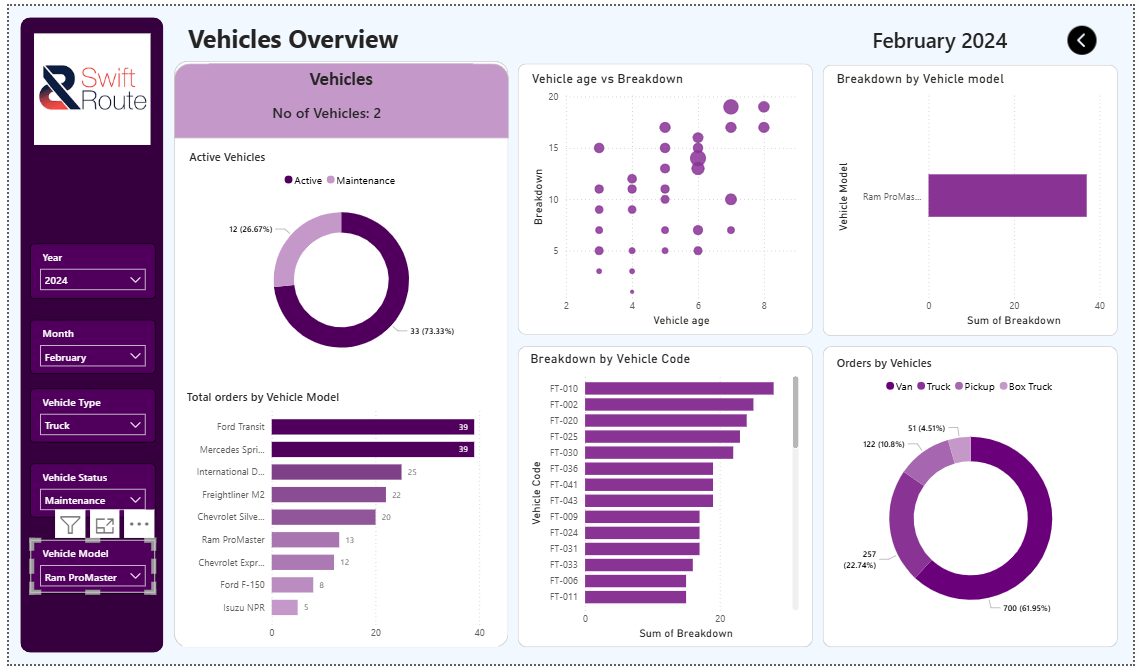

The dashboard page shown, as its layout file describes it:
{"tool":"powerbi","page":{"name":"Vehicles Overview","canvas":[1450,850],"ordinal":3},"visuals":[{"type":"shape","box":[14.4,14.4,184.8,820],"z":0},{"type":"textbox","box":[225.8,14.5,658.1,56.5],"z":1000},{"type":"slicer","fields":{"Values":["Date table.Month"]},"box":[27.4,404.8,161.3,69.4],"z":2000},{"type":"slicer","fields":{"Values":["Date table.Year"]},"box":[27.4,306.5,161.3,71],"z":3000},{"type":"image","box":[32.3,14.5,150,185.5],"z":4000},{"type":"cardVisual","fields":{"Data":["Orders.Year Month Title"]},"box":[1096.8,14.5,237.1,56.5],"z":5000},{"type":"shape","box":[212.9,71,431.5,756.5],"z":6000},{"type":"shape","box":[656.5,74.2,380.6,350],"z":7000},{"type":"group","id":"g1","title":"Group 1","box":[213.1,73.8,432.1,753.2],"z":8000},{"type":"shape","box":[1050,75.8,380.6,350],"z":9000},{"type":"scatterChart","title":"Vehicle age vs Breakdown","fields":{"X":["Vehicles.Vehicle age"],"Y":["Vehicles.Breakdown"],"Size":["Sum(Vehicles.Breakdown)1"]},"box":[669.4,83.9,356.5,335.5],"z":10000},{"type":"shape","box":[656.5,438.7,380.6,388.7],"z":11000},{"type":"barChart","title":" Breakdown by Vehicle Code","fields":{"Category":["Vehicles.Vehicle Code"],"Y":["Sum(Vehicles.Breakdown)"]},"box":[667.7,445.2,356.5,377.4],"z":12000},{"type":"shape","box":[213.1,74,432.1,96.7],"z":13000,"group":"g1"},{"type":"barChart","title":" Breakdown by Vehicle model","fields":{"Y":["Sum(Vehicles.Breakdown)"],"Category":["Vehicles.Vehicle Model"]},"box":[1062.9,83.9,356.5,335.5],"z":13000},{"type":"shape","box":[1050,438.7,380.6,388.7],"z":14000},{"type":"donutChart","title":"Orders by Vehicles","fields":{"Y":["Orders.Total orders"],"Category":["Orders.Vehicle Type"]},"box":[1062.9,450,356.5,372.6],"z":15000},{"type":"image","box":[1364.5,24.2,40.3,40.3],"z":16000},{"type":"slicer","fields":{"Values":["Orders.Vehicle Type"]},"box":[27.4,493.5,161.3,69.4],"z":17000},{"type":"slicer","fields":{"Values":["Vehicles.Vehicle Status"]},"box":[27.4,590.3,161.3,69.4],"z":18000},{"type":"textbox","box":[257.6,73.8,340.9,59.9],"z":19000,"group":"g1"},{"type":"slicer","fields":{"Values":["Vehicles.Vehicle Model"]},"box":[27.4,688.7,161.3,69.4],"z":19000},{"type":"cardVisual","fields":{"Data":["Vehicles.No of Vehicles"]},"box":[323.6,101.8,253,69.9],"z":20000,"group":"g1"},{"type":"donutChart","title":"Active Vehicles","fields":{"Category":["Vehicles.Vehicle Status"],"Y":["CountNonNull(Vehicles.Vehicle ID)"]},"box":[228.3,183.7,403.3,289.7],"z":21000,"group":"g1"},{"type":"barChart","fields":{"Category":["Vehicles.Vehicle Model"],"Y":["Orders.Total orders"]},"box":[224.6,493.4,406.9,333.7],"z":22000,"group":"g1"}]}

Visuals, with their boxes in screenshot pixels (x1, y1, x2, y2), scaled from the page's 1450x850 canvas onto the 1139x670 screenshot:
shape: 11 11 156 658
textbox: 177 11 694 56
slicer - Date table.Month: 22 319 148 374
slicer - Date table.Year: 22 242 148 298
image: 25 11 143 158
cardVisual - Orders.Year Month Title: 862 11 1048 56
shape: 167 56 506 652
shape: 516 58 815 334
"Group 1" group: 167 58 507 652
shape: 825 60 1124 336
"Vehicle age vs Breakdown" scatterChart: 526 66 806 331
shape: 516 346 815 652
" Breakdown by Vehicle Code" barChart: 524 351 805 648
shape: 167 58 507 135
" Breakdown by Vehicle model" barChart: 835 66 1115 331
shape: 825 346 1124 652
"Orders by Vehicles" donutChart: 835 355 1115 648
image: 1072 19 1103 51
slicer - Orders.Vehicle Type: 22 389 148 444
slicer - Vehicles.Vehicle Status: 22 465 148 520
textbox: 202 58 470 105
slicer - Vehicles.Vehicle Model: 22 543 148 598
cardVisual - Vehicles.No of Vehicles: 254 80 453 135
"Active Vehicles" donutChart: 179 145 496 373
barChart - Vehicles.Vehicle Model x Orders.Total orders: 176 389 496 652
